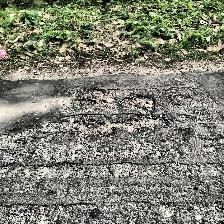pothole: (72, 86, 170, 138)
